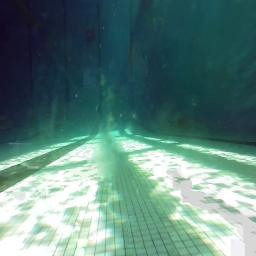Full: (86, 32, 99, 42)
